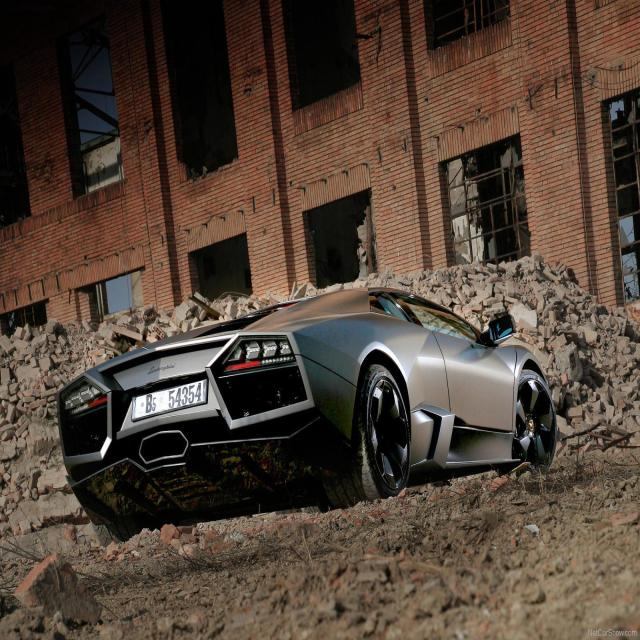Car: (39, 271, 586, 519)
